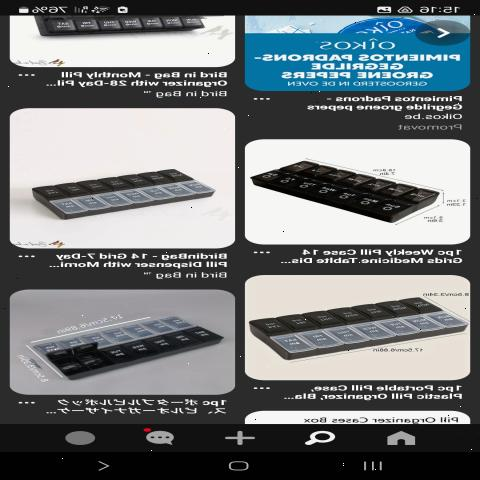PillBox: (253, 147, 449, 238), (253, 286, 455, 371), (20, 303, 224, 385), (14, 155, 227, 230)
